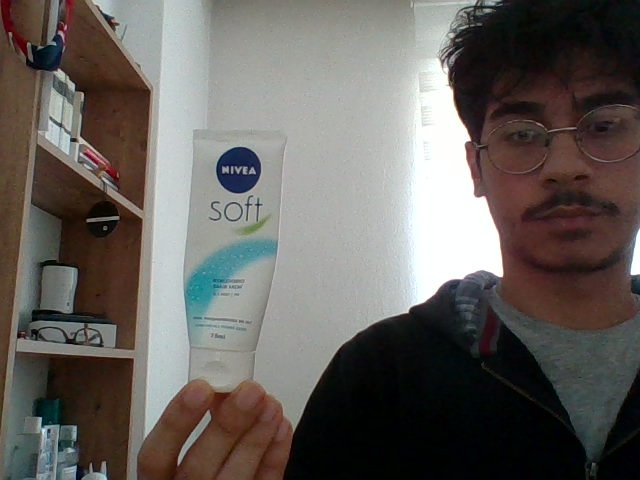NiveaSoft: (187, 130, 284, 347)
